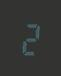two: (19, 19, 39, 56)
